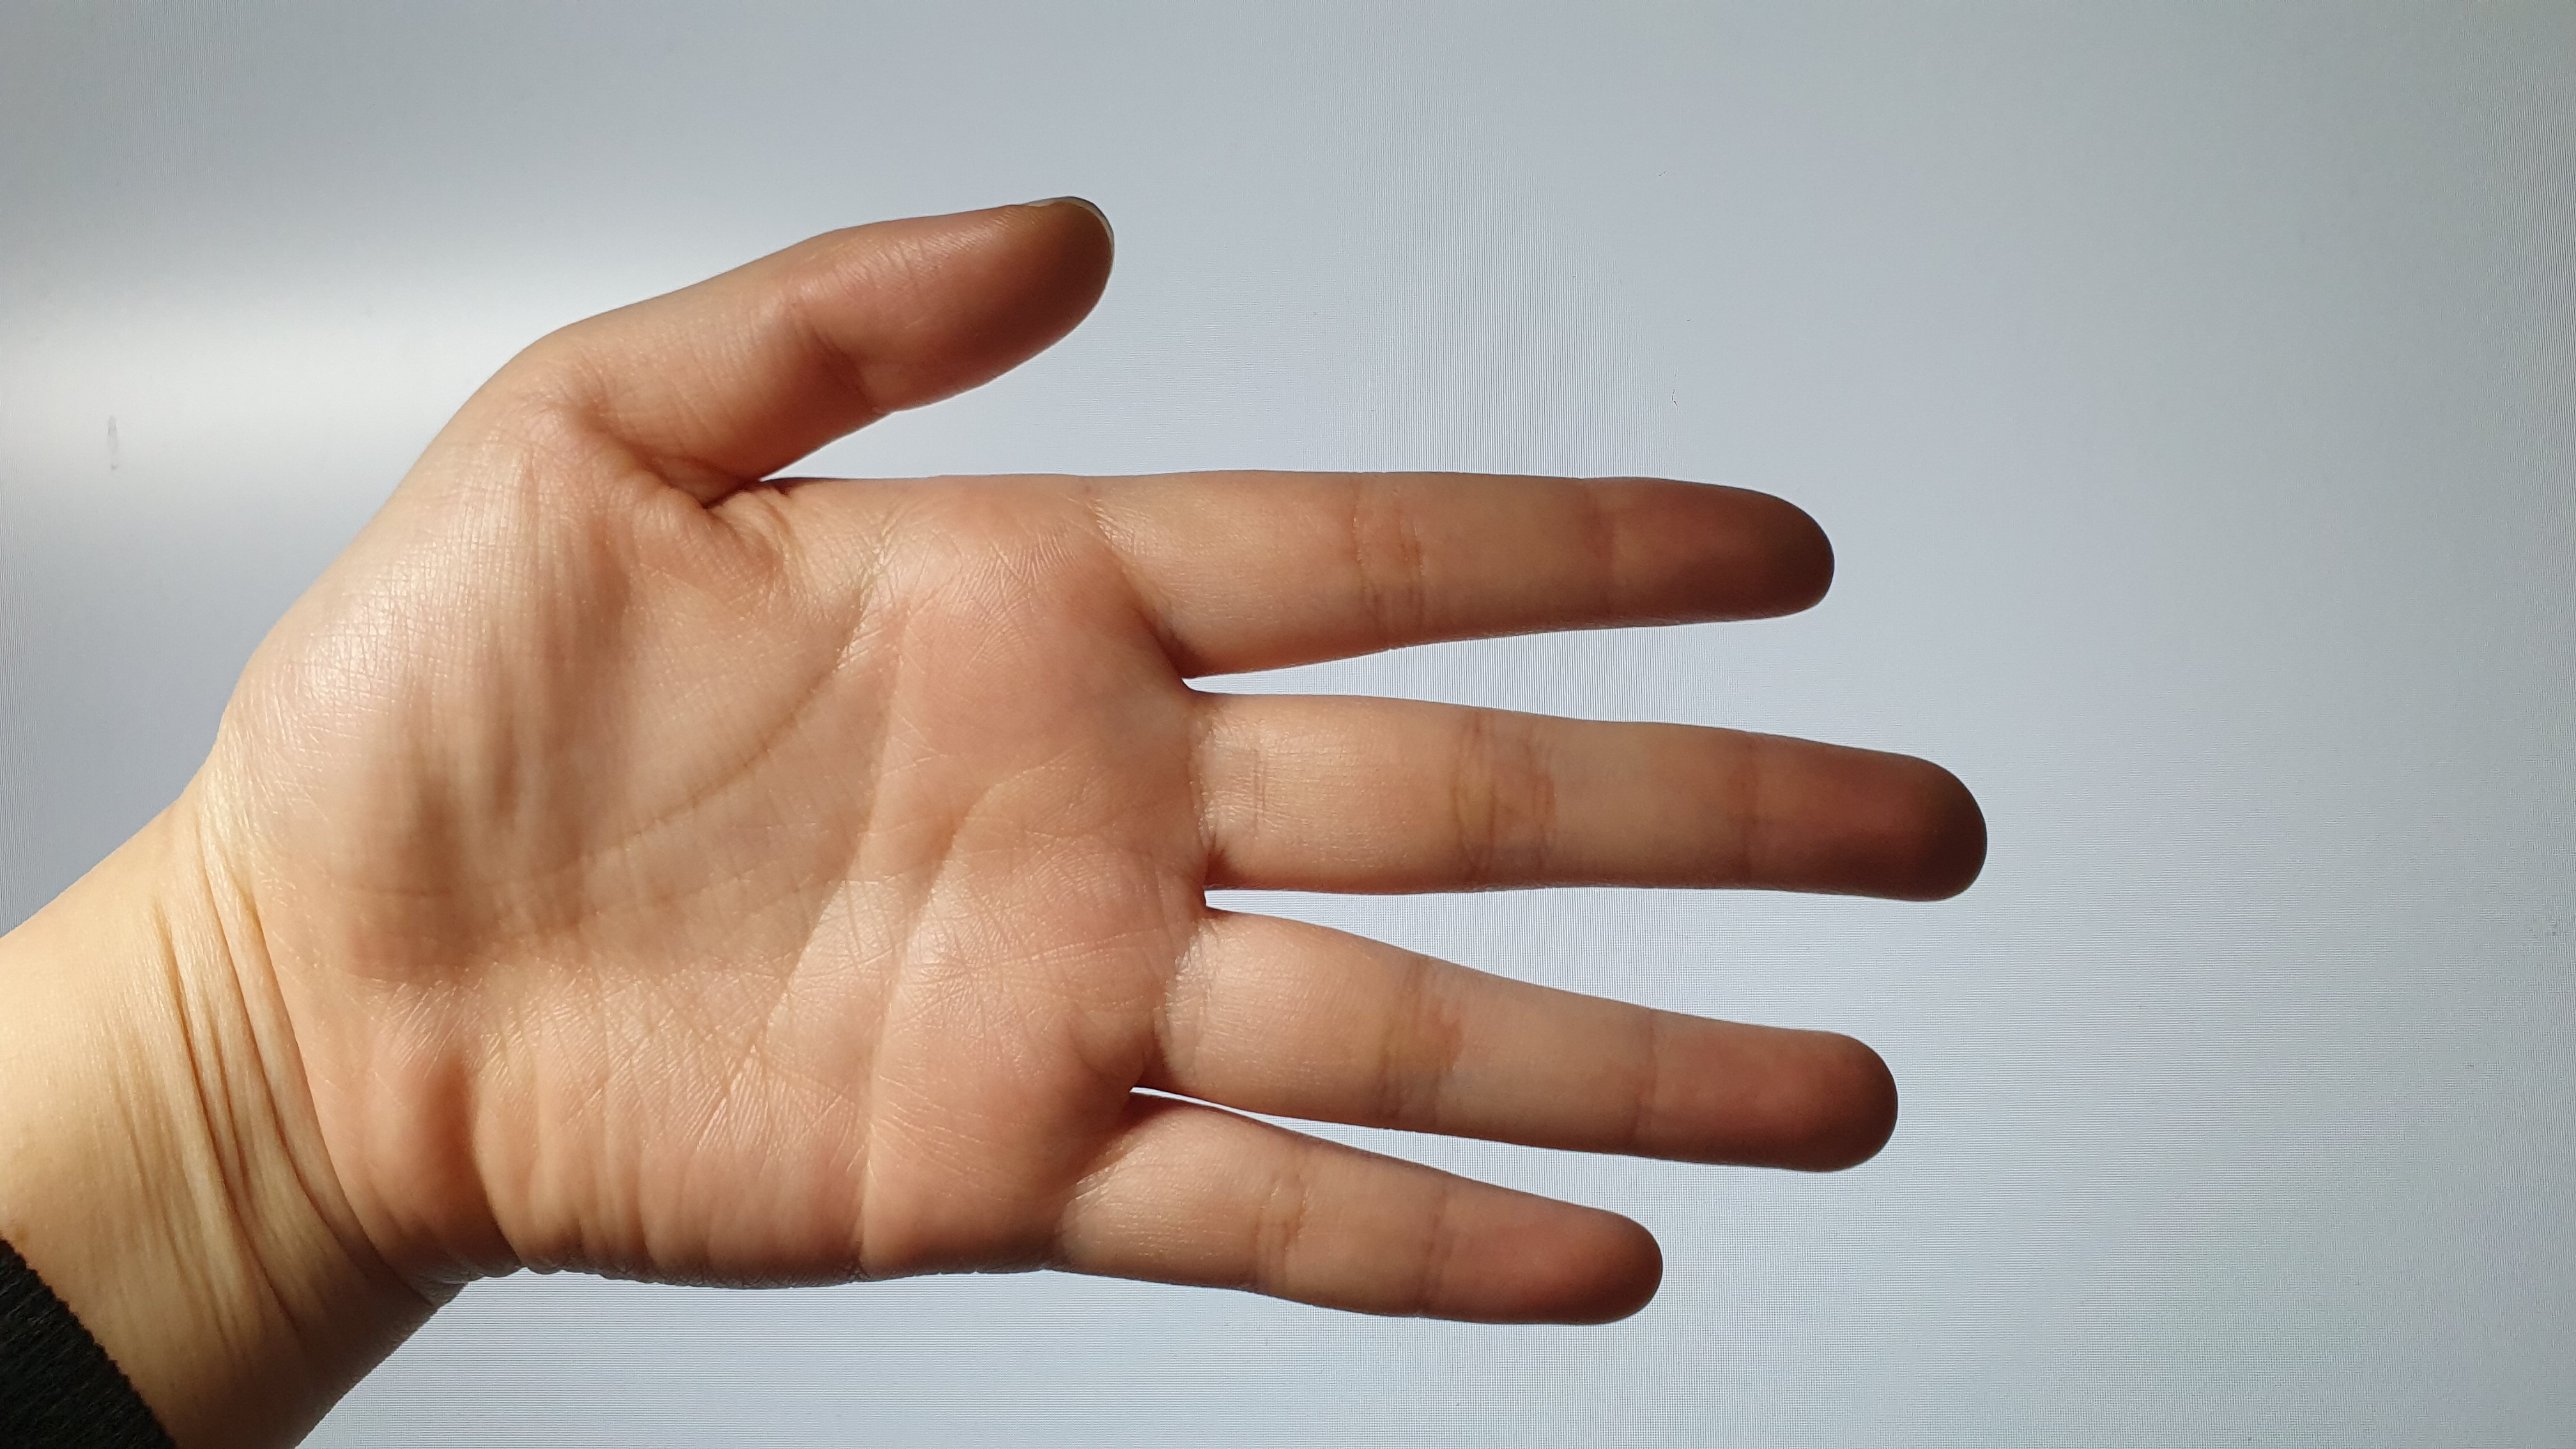hand: (219, 188, 2008, 1332)
index finger: (1092, 469, 1849, 678)
middle finger: (1184, 695, 1989, 899)
palm: (283, 455, 1184, 1295)
pinky: (1053, 1100, 1670, 1359)
ring finger: (1146, 906, 1911, 1198)
thumb: (533, 188, 1122, 467)
